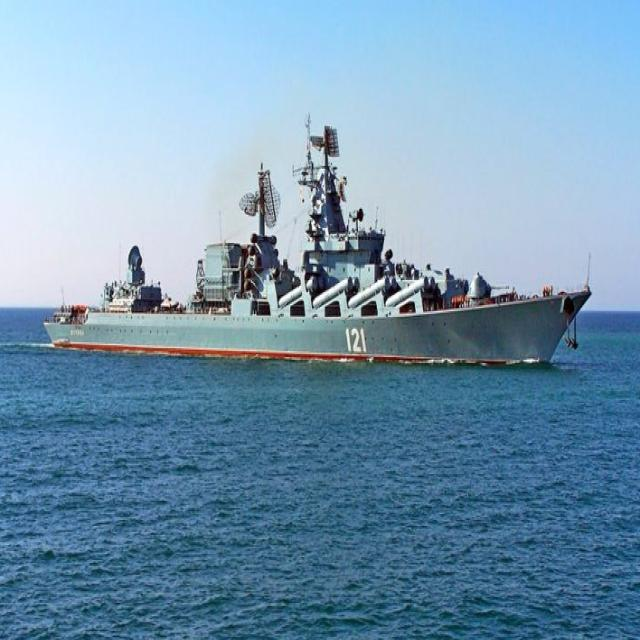navalvessels: (43, 95, 594, 375)
